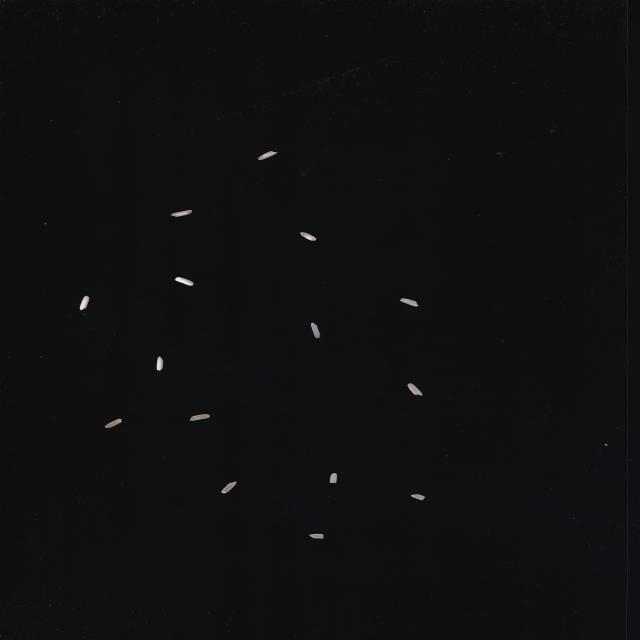Chalky: (258, 150, 278, 160), (170, 210, 193, 218), (299, 232, 317, 241)
Not: (406, 383, 424, 396), (220, 481, 237, 494), (174, 276, 194, 286), (104, 418, 122, 429), (310, 322, 321, 339), (399, 298, 419, 307), (79, 296, 90, 310), (189, 414, 211, 421), (156, 356, 164, 371), (410, 494, 426, 501), (309, 534, 324, 540), (329, 472, 337, 483)
